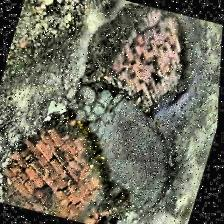pothole: (0, 104, 142, 224), (98, 0, 204, 121)
